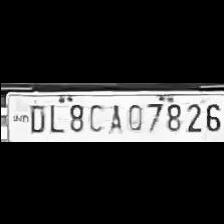0: (123, 99, 143, 131)
2: (182, 100, 202, 132)
6: (200, 99, 222, 131)
7: (142, 98, 162, 132)
8: (64, 100, 84, 132), (162, 100, 182, 132)
A: (104, 100, 124, 132)
C: (84, 100, 104, 132)
D: (24, 100, 46, 132)
L: (45, 100, 63, 132)
